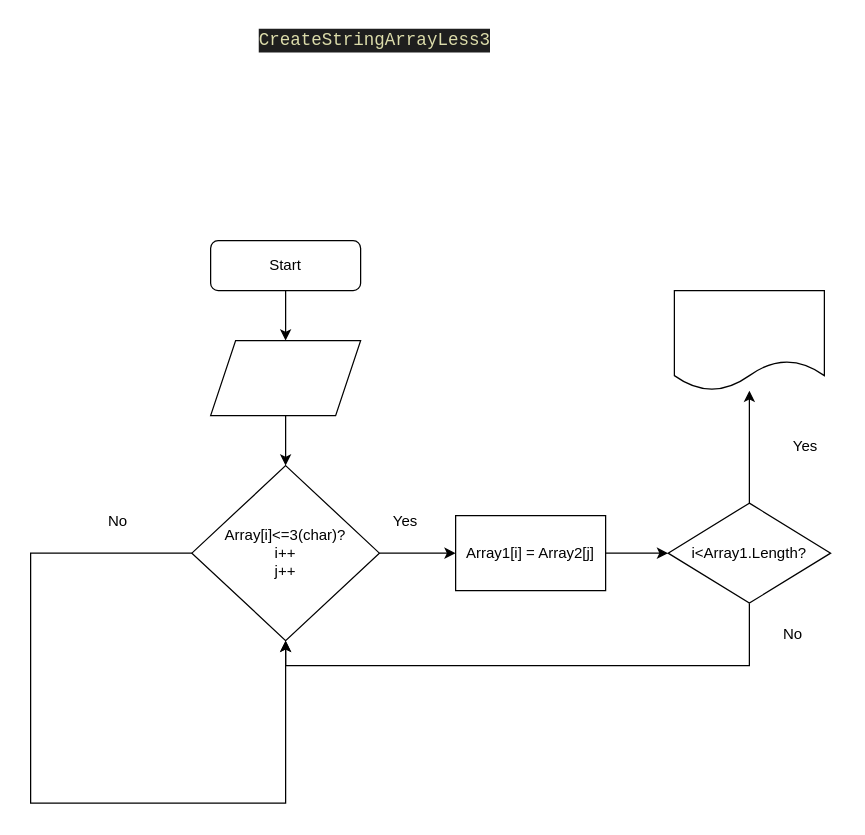
The diagram is 865 pixels wide and 835 high, and some of its shapes have lost their labels. Here are the shapes that lost their labels. From the top down, the box of each, then its label:
(673, 289, 824, 391): Print (Array2)
(209, 339, 361, 416): Array1[] Array2[] j=0 i=0
